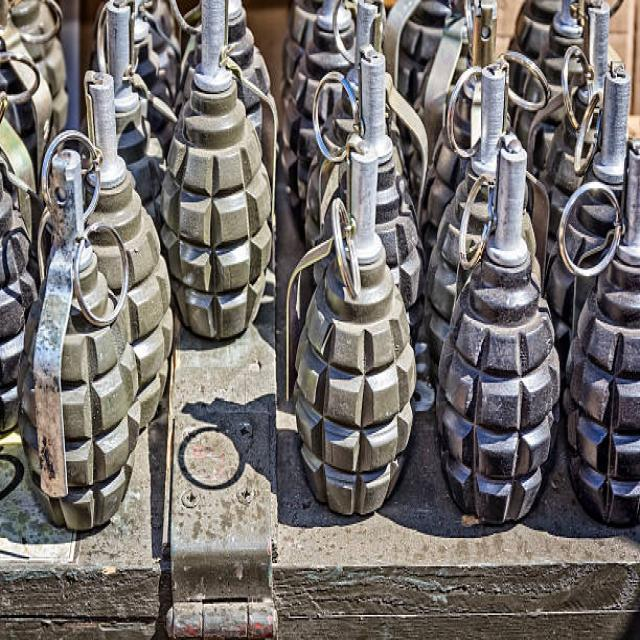grenade: (281, 68, 420, 522), (434, 128, 568, 529), (15, 149, 139, 530), (156, 1, 277, 341)
